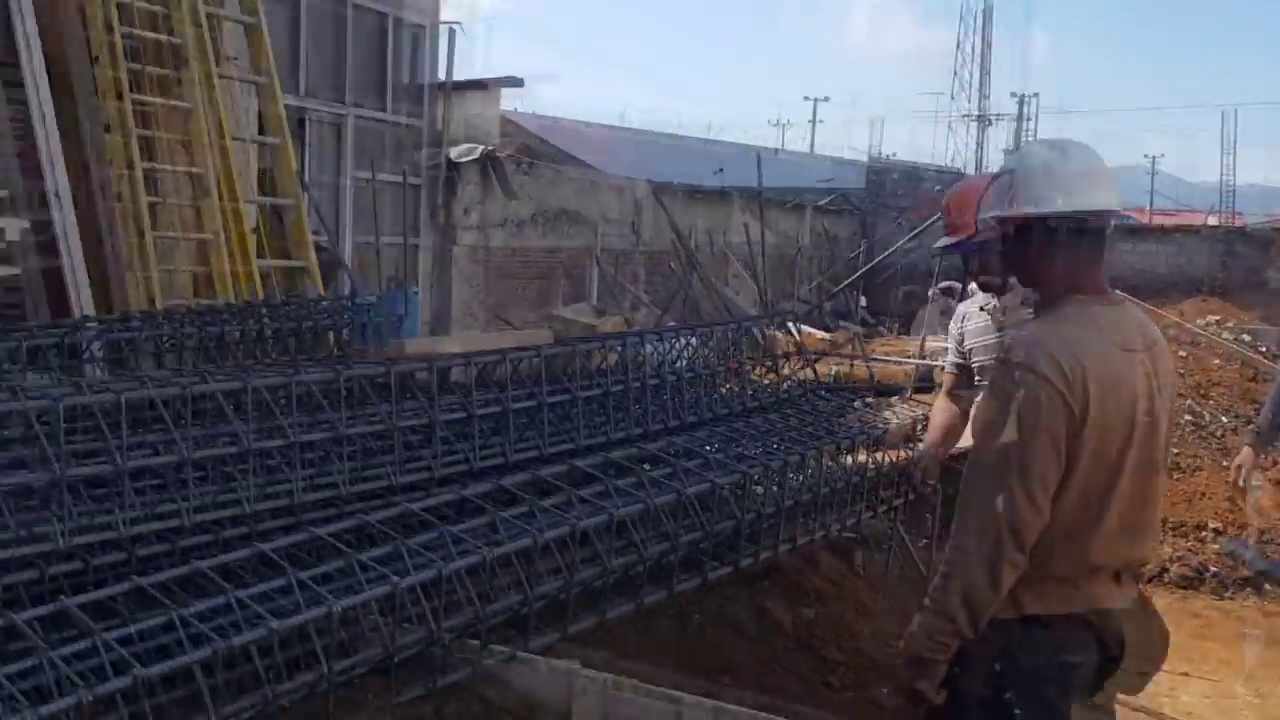helmet: (978, 140, 1123, 222), (930, 189, 978, 251)
helmet-on: (976, 139, 1126, 302), (935, 190, 1004, 295)
person: (891, 136, 1183, 717), (912, 192, 1019, 495)
